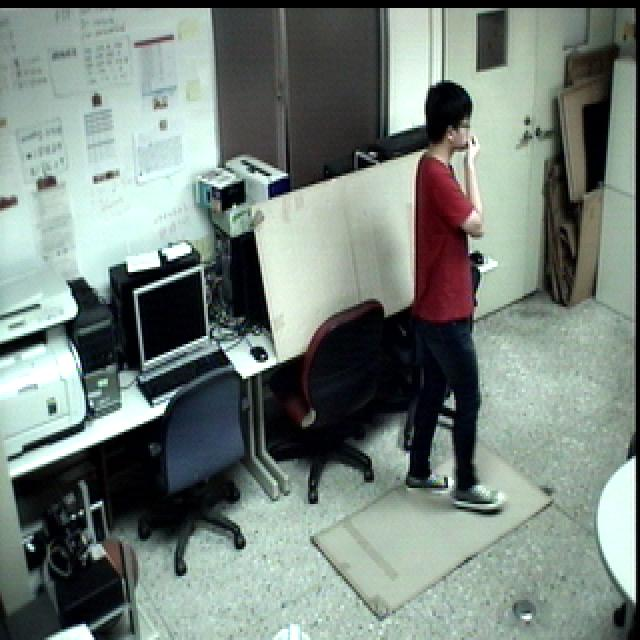stand: (389, 75, 518, 517)
